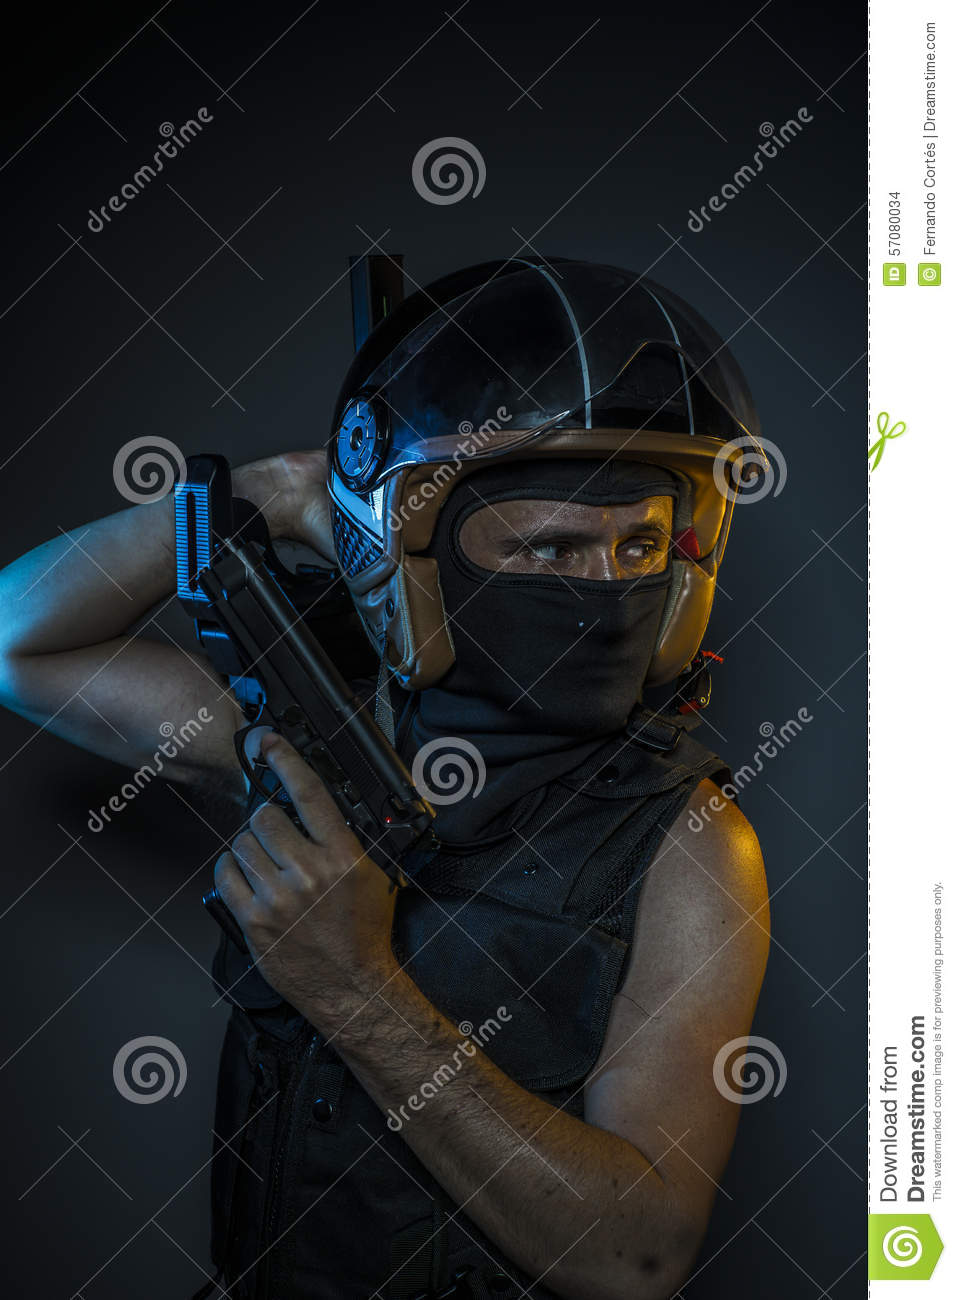helmet: (346, 295, 750, 669)
